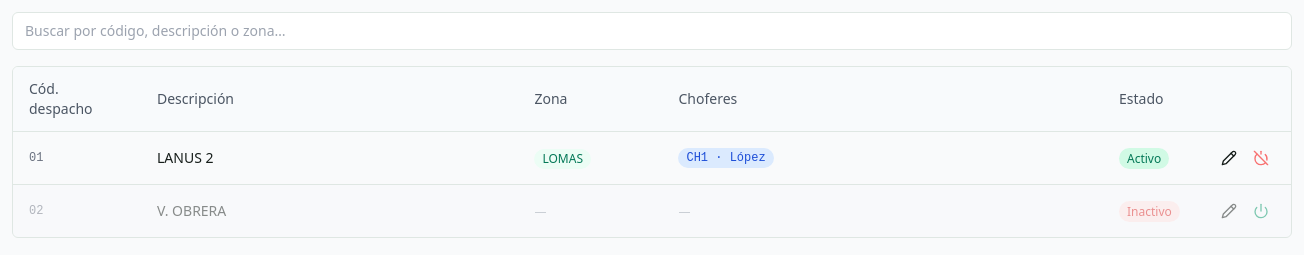
RutasTab › filtra por id o descripción
The image size is (1304, 255).
Type "obrera" into the field with placeholder "Buscar por código, descripción o zona…" at (652, 31), box [12,12,1292,50]
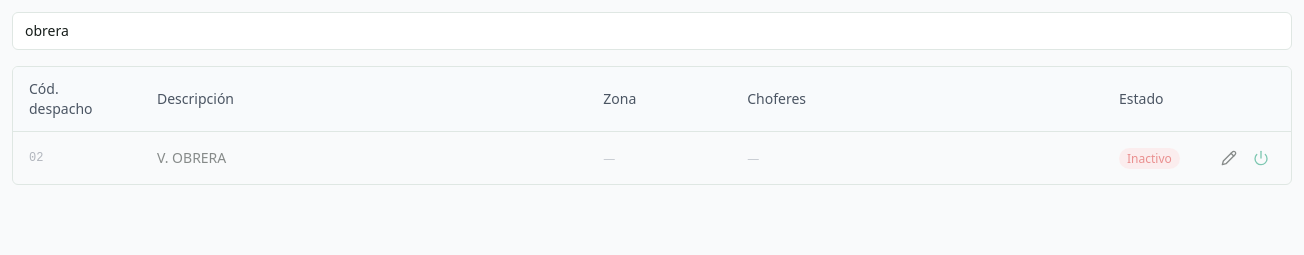
Check: the text "V. OBRERA" is shown, box [141,132,587,184]
Check: the text "LANUS 2" is gone
